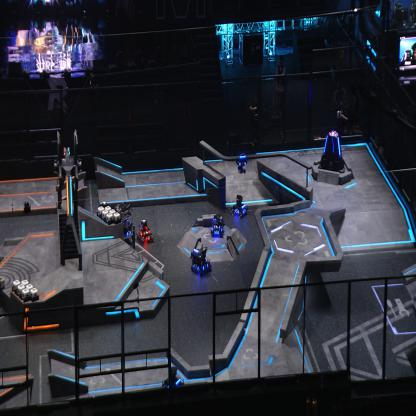car: (113, 202, 135, 242), (160, 366, 185, 400), (192, 245, 212, 276), (137, 218, 154, 246), (230, 194, 248, 218), (210, 213, 226, 237)
